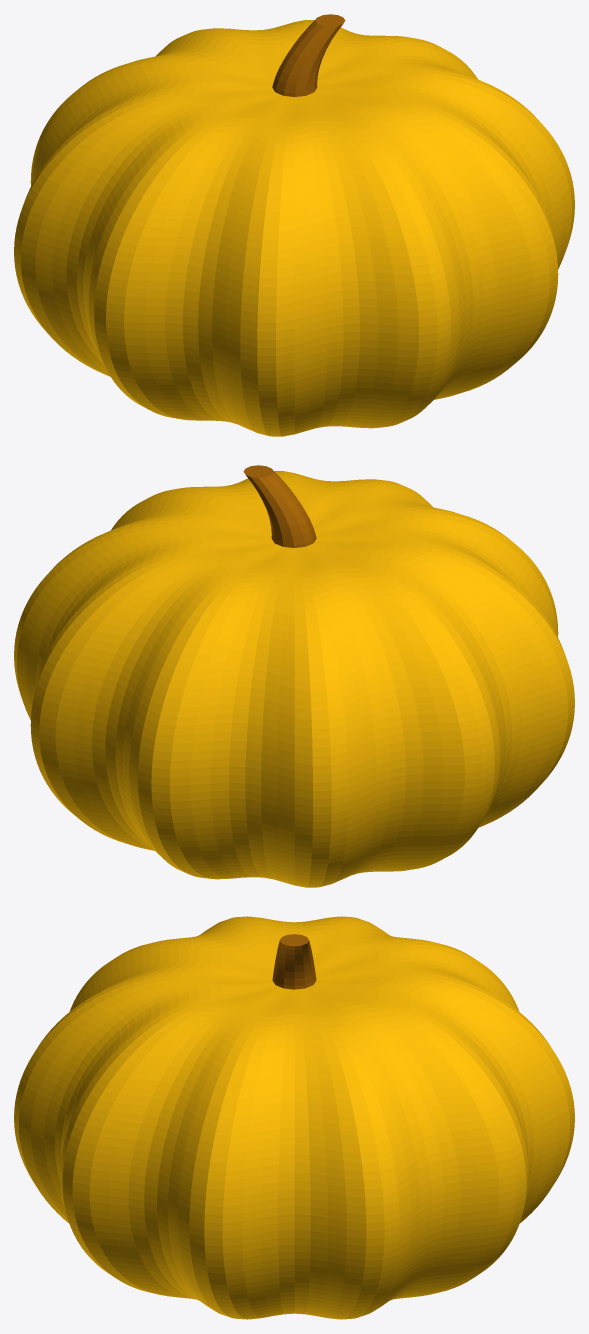
The model's file is squat.glb.
The picture shows the model from 3 angles, top to bottom: view 1: azimuth 30°, elevation 25°; view 2: azimuth 150°, elevation 25°; view 3: azimuth 270°, elevation 25°; orthographic projection. The views are drawn at different scales.
Parts seen in each view (by area): view 1: body, lid, stem; view 2: body, lid, stem; view 3: body, lid, stem.
Boxes of the visible parts, x1,y1,x2,y2 form: body: (14,39,574,436); lid: (83,20,505,203); stem: (272,14,345,96); body: (14,490,574,887); lid: (83,471,505,654); stem: (243,465,316,547); body: (14,952,574,1319); lid: (83,916,505,1090); stem: (272,934,316,989).
Bounding box in the file's own units: 2.37 × 1.64 × 2.48.
